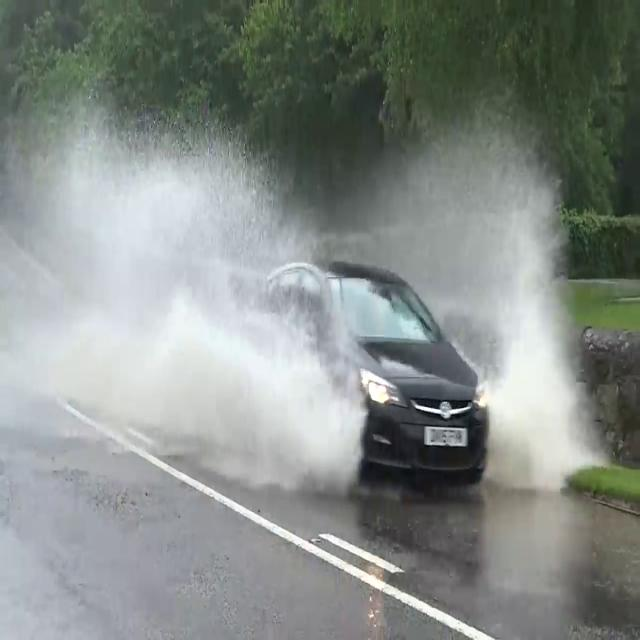license-plate-annotation: (423, 423, 470, 451)
